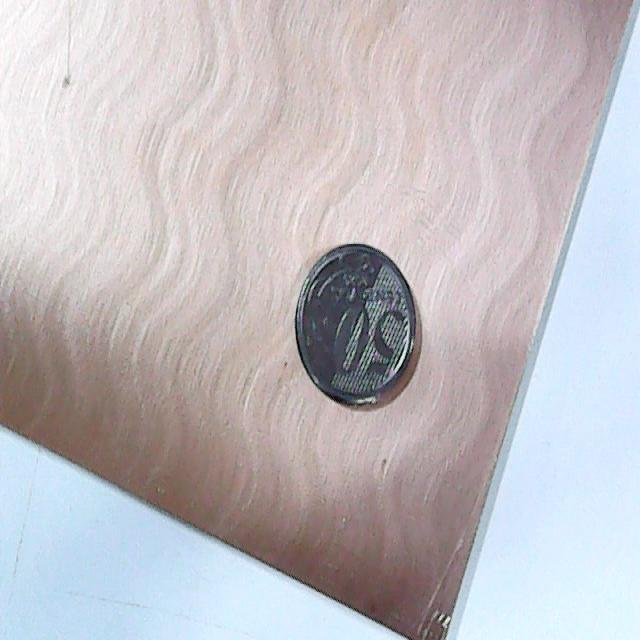50 cents: (292, 237, 421, 418)
